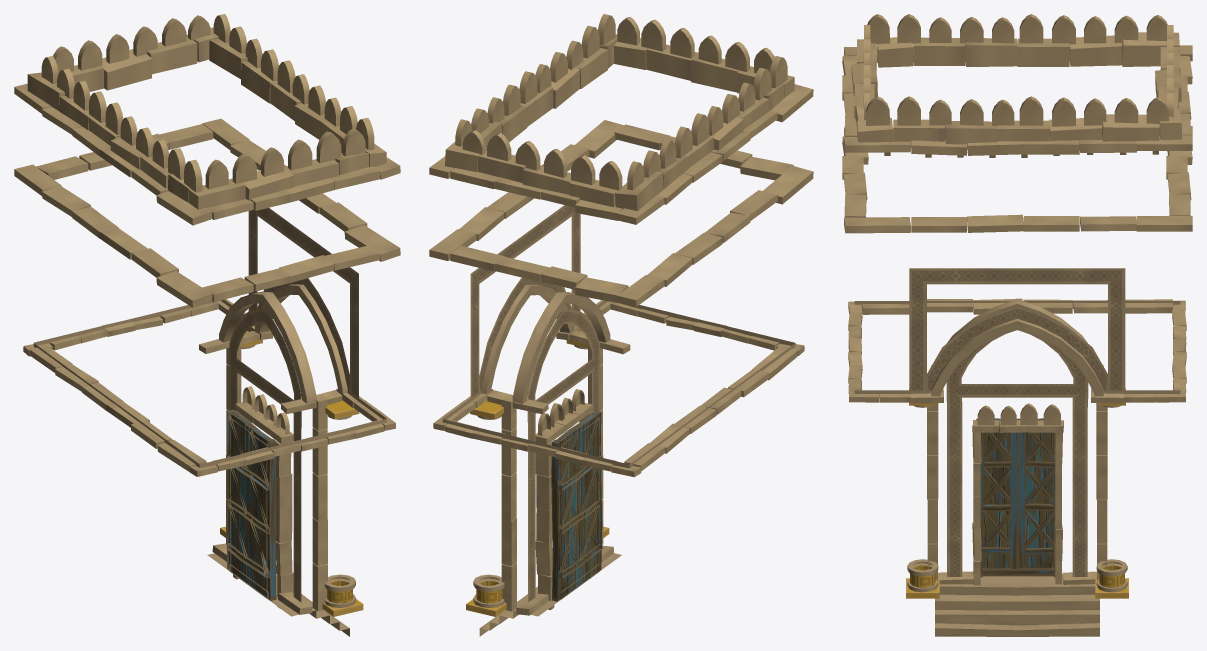
The model's file is A_Large_Door_A_KitPart.FBX.
The picture shows the model from 3 angles, left to right: view 1: azimuth 30°, elevation 25°; view 2: azimuth 150°, elevation 25°; view 3: azimuth 270°, elevation 25°; orthographic projection. The views are drawn at different scales.
Parts seen in each view (by area): view 1: A_Large_Door_A_KitPart; view 2: A_Large_Door_A_KitPart; view 3: A_Large_Door_A_KitPart.
Boxes of the visible parts, x1=… form: A_Large_Door_A_KitPart: x1=14, y1=14, x2=400, y2=636; A_Large_Door_A_KitPart: x1=429, y1=14, x2=813, y2=636; A_Large_Door_A_KitPart: x1=842, y1=14, x2=1192, y2=636.
Bounding box in the file's own units: 443 × 1087 × 648.
